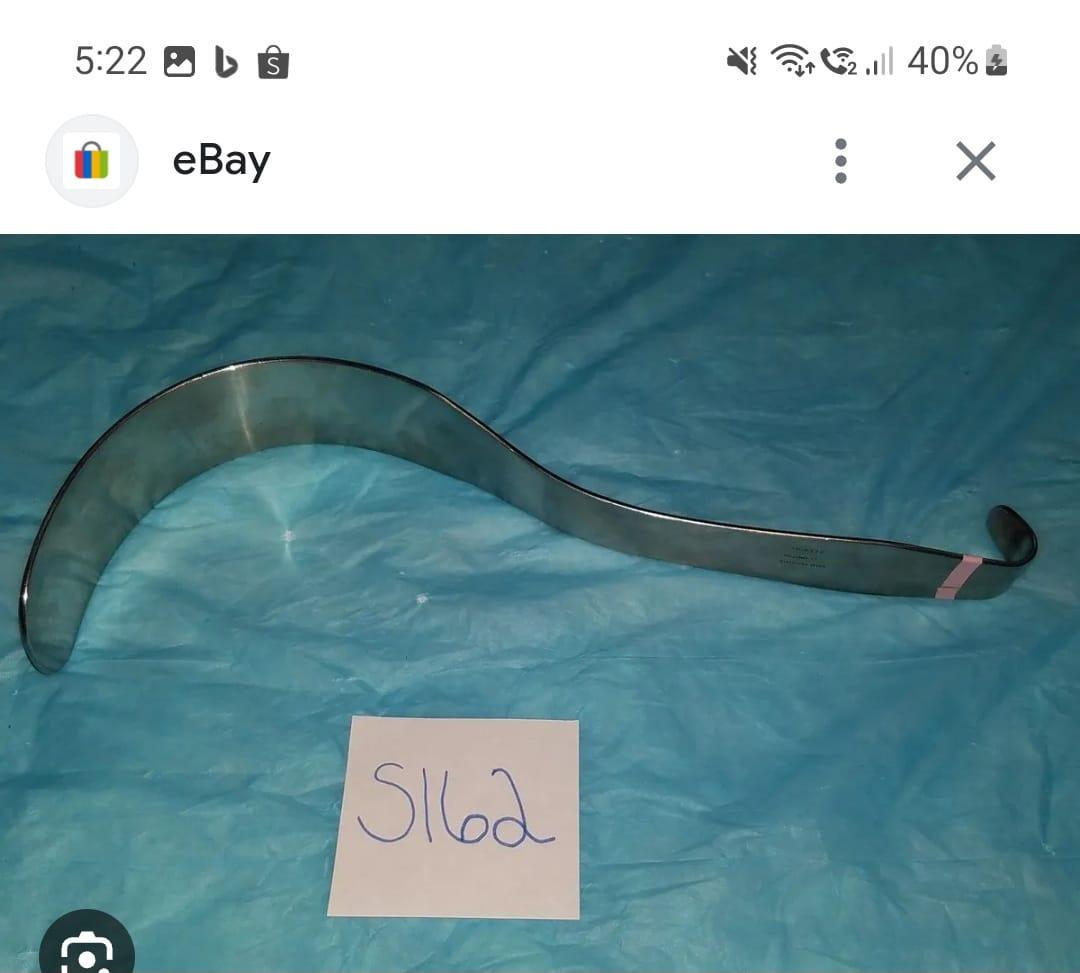Deaver Retractor: (11, 343, 1047, 691)
